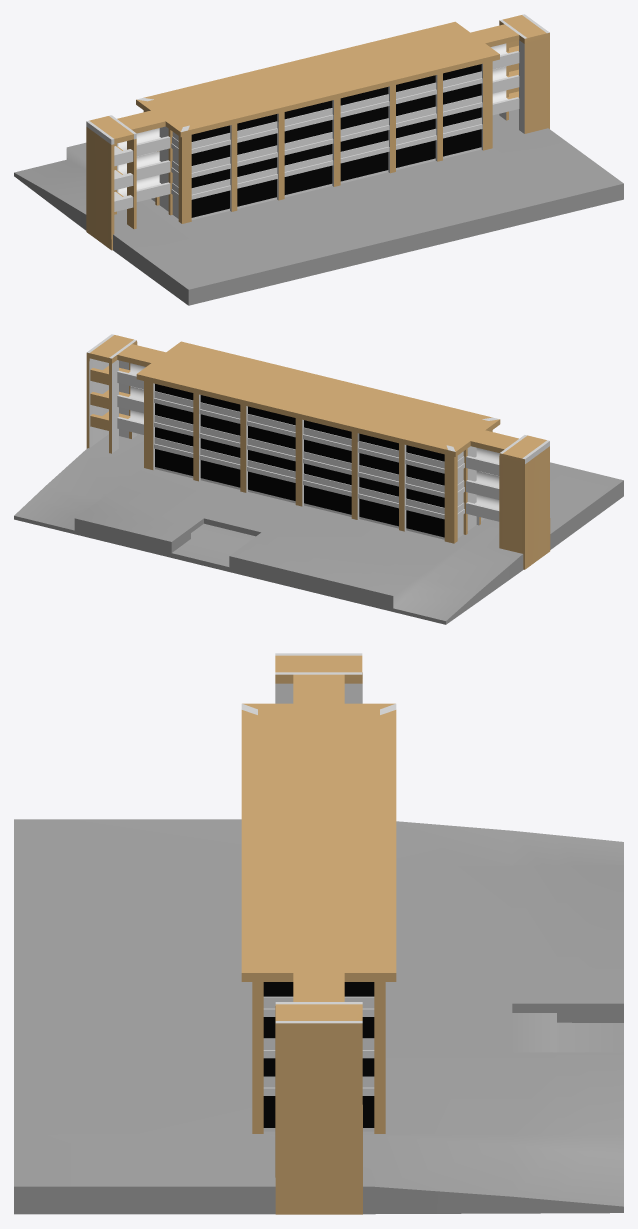
Rendered from PlantaFisica.fbx.
3 renders of one model, top to bottom at view 1: azimuth 30°, elevation 25°; view 2: azimuth 150°, elevation 25°; view 3: azimuth 270°, elevation 25°, orthographic. The views are drawn at different scales.
Visible parts, largest first — view 1: pCube3, pCube4; view 2: pCube3, pCube4; view 3: pCube4, pCube3.
Part boxes in pixels (x1,y1,x2,y2): pCube3: (86, 14, 549, 250); pCube4: (14, 109, 623, 305); pCube3: (86, 334, 550, 569); pCube4: (14, 433, 623, 624); pCube4: (14, 819, 623, 1214); pCube3: (241, 653, 396, 1214).
Bounding box in the file's own units: 28.72 × 6.95 × 20.
